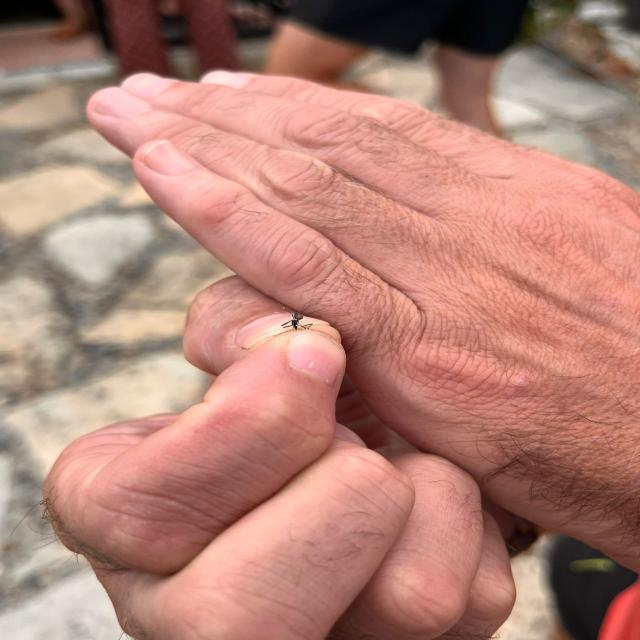albopictus: (278, 309, 316, 333)
